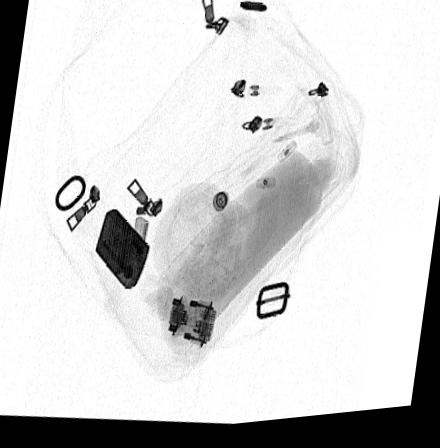Lighter: (95, 210, 151, 291)
